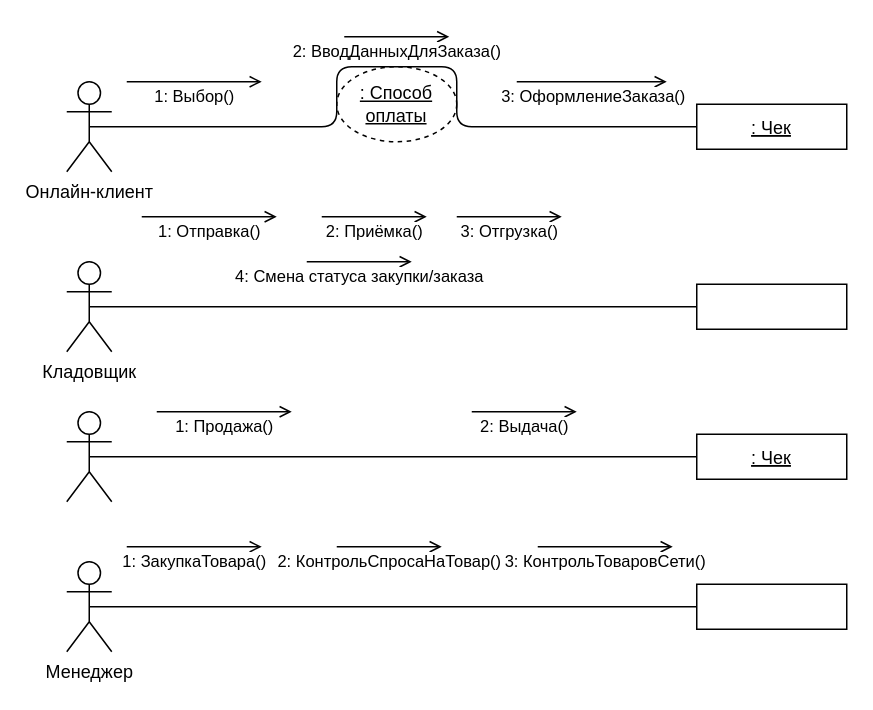
This 873x710 diagram has some shape labels left out. The centre of each missing label's shape, as x and y in pixels:
: Накладная: the point at 771,306
: Отчёт: the point at 771,606
Кассир: the point at 88,456
